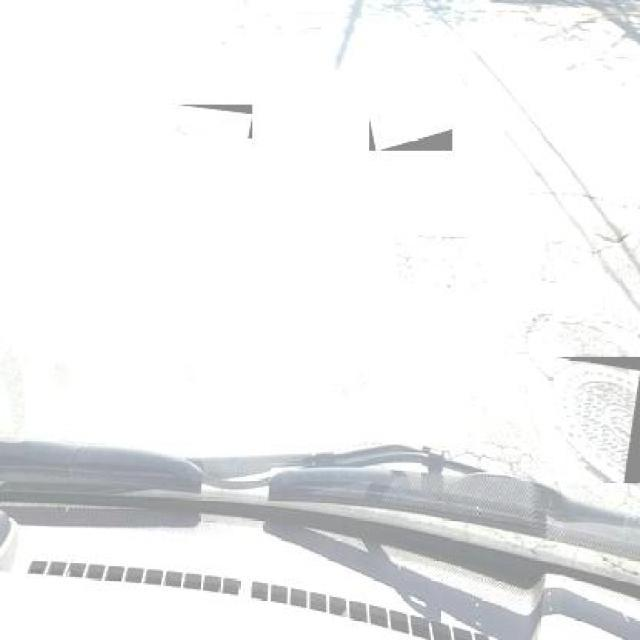Manhole: (554, 356, 640, 484), (370, 115, 452, 151), (174, 105, 252, 138)
Pothole: (506, 448, 541, 481)
